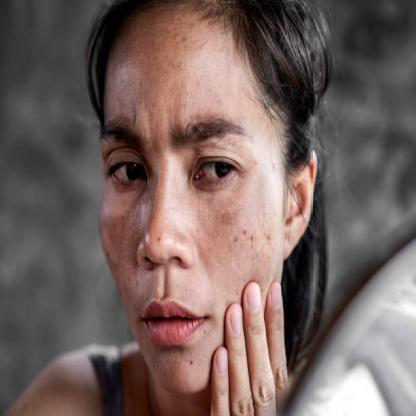darkspot: (222, 280, 252, 312), (118, 211, 142, 238), (104, 247, 121, 280), (221, 210, 235, 226), (269, 154, 278, 175), (211, 90, 222, 105), (180, 35, 190, 44), (155, 234, 162, 244), (133, 278, 140, 288), (232, 234, 238, 244), (265, 234, 271, 244), (188, 358, 193, 365), (250, 234, 254, 242), (240, 228, 246, 233)
